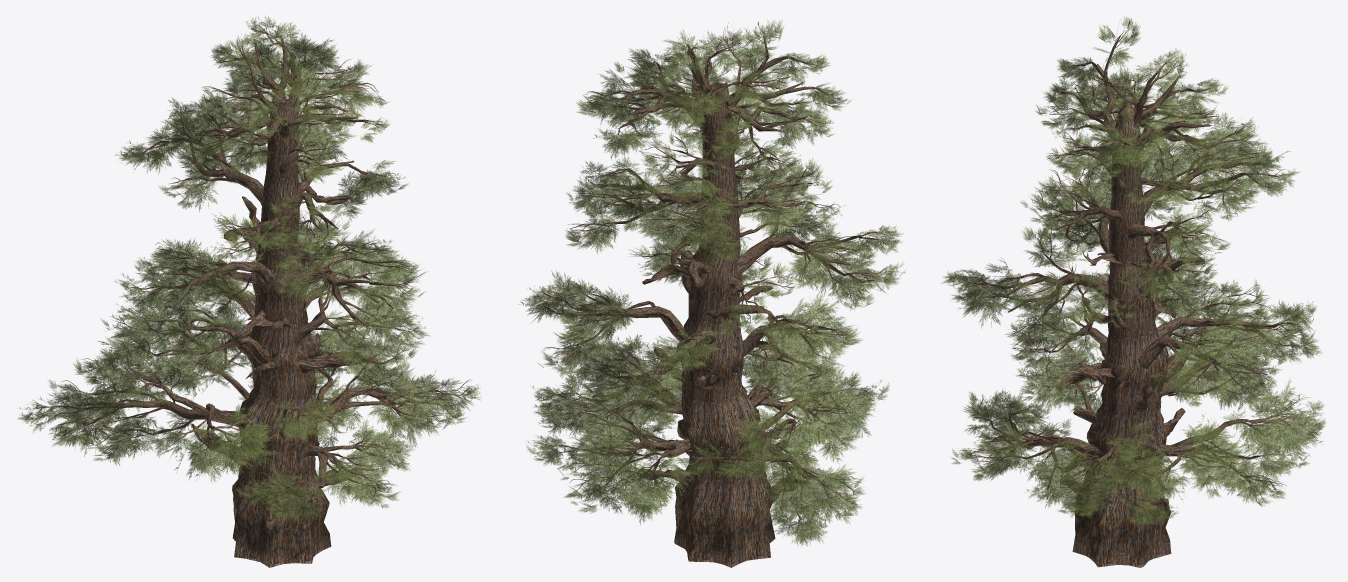
File: tree_juniper.glb
3 views of the same model, side by side, from view 1: azimuth 30°, elevation 25°; view 2: azimuth 150°, elevation 25°; view 3: azimuth 270°, elevation 25° (orthographic). The views are drawn at different scales.
Bounding box in the file's own units: 4.58 × 5.95 × 4.15.
4 materials, 4 textured.
